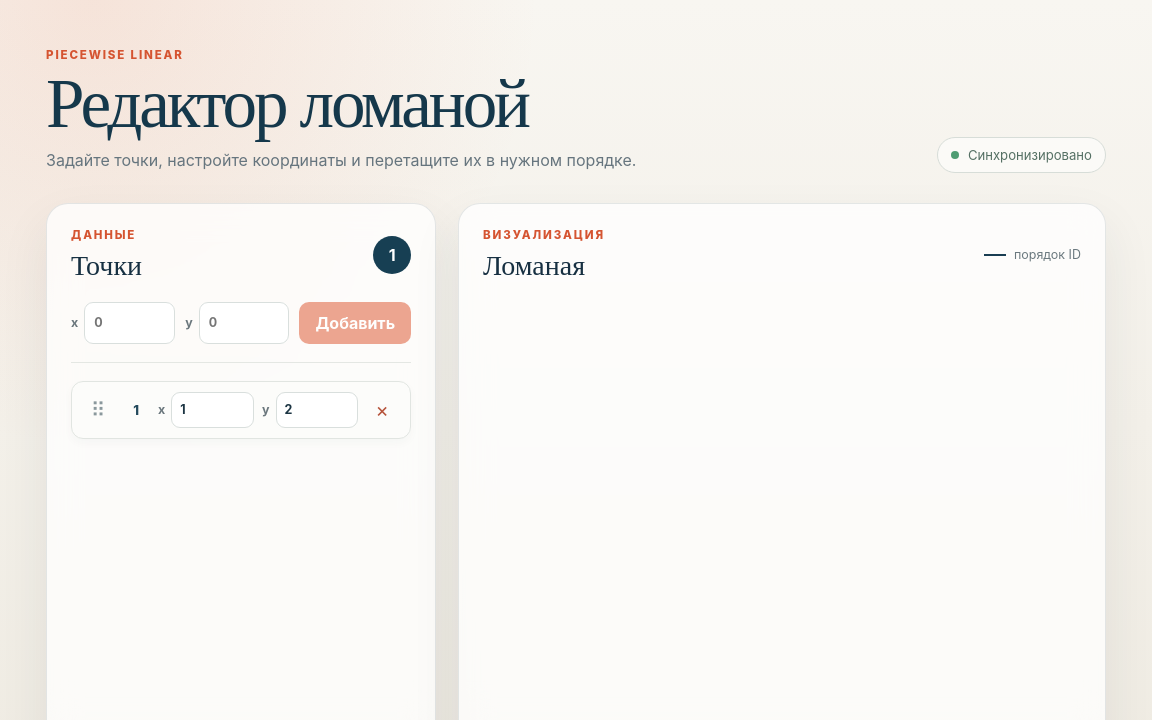
Test case: App › rolls an optimistic coordinate back after an API error
Expected: the button named "Удалить точку 1" is shown, [366,394,398,426]
Replace the text in the 2nd number field labelled "x" with "9" at [213, 410], box [171,392,254,428]
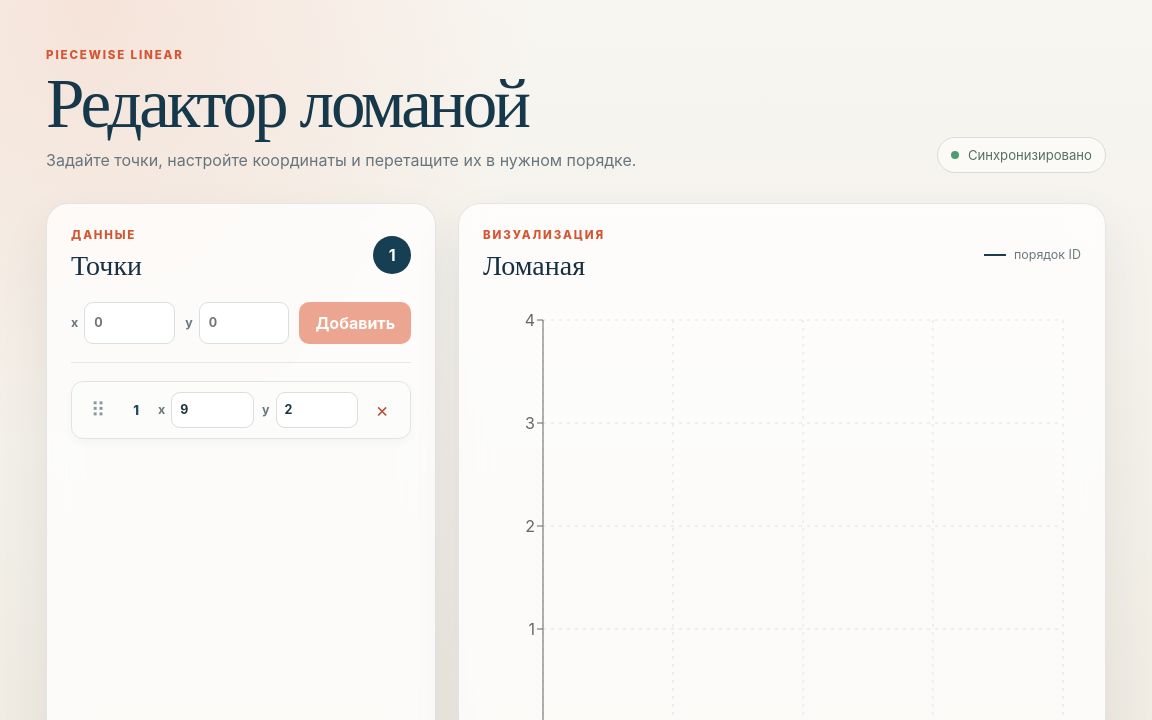
Leave the 2nd number field labelled "x", box [171,392,254,428]
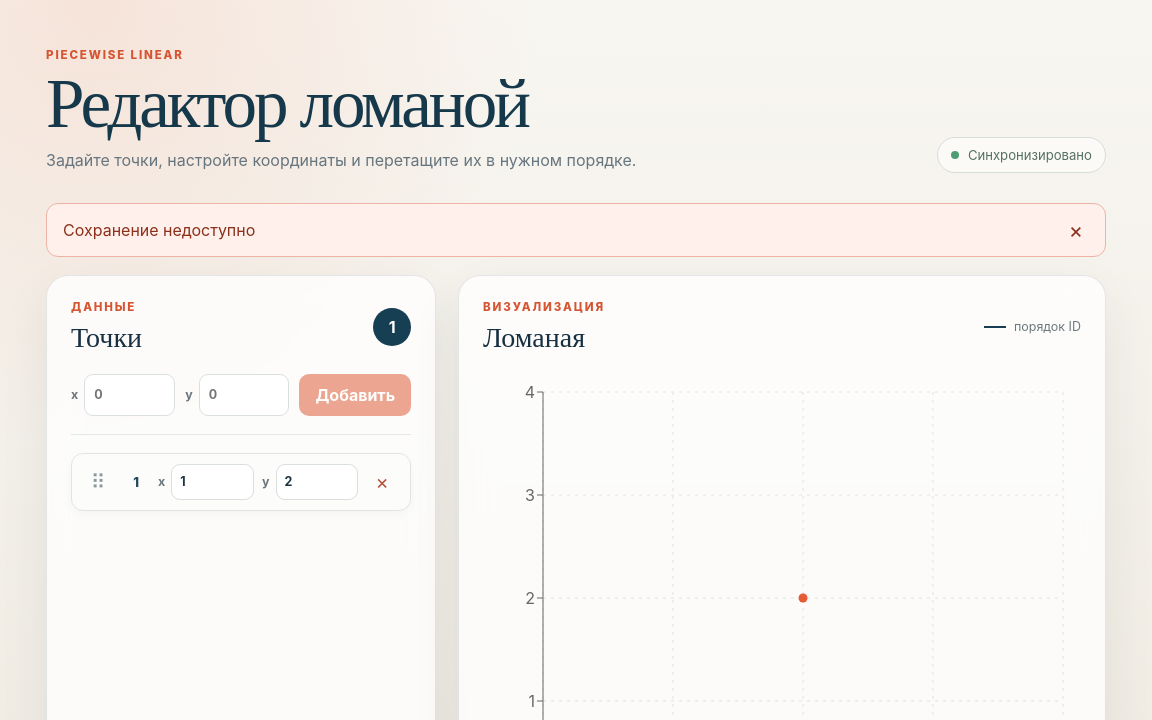
Expected: the message "Сохранение недоступно ×" is shown, [46,202,1106,256]
Expected: the 2nd number field labelled "x" holds "1", [171,464,254,500]
